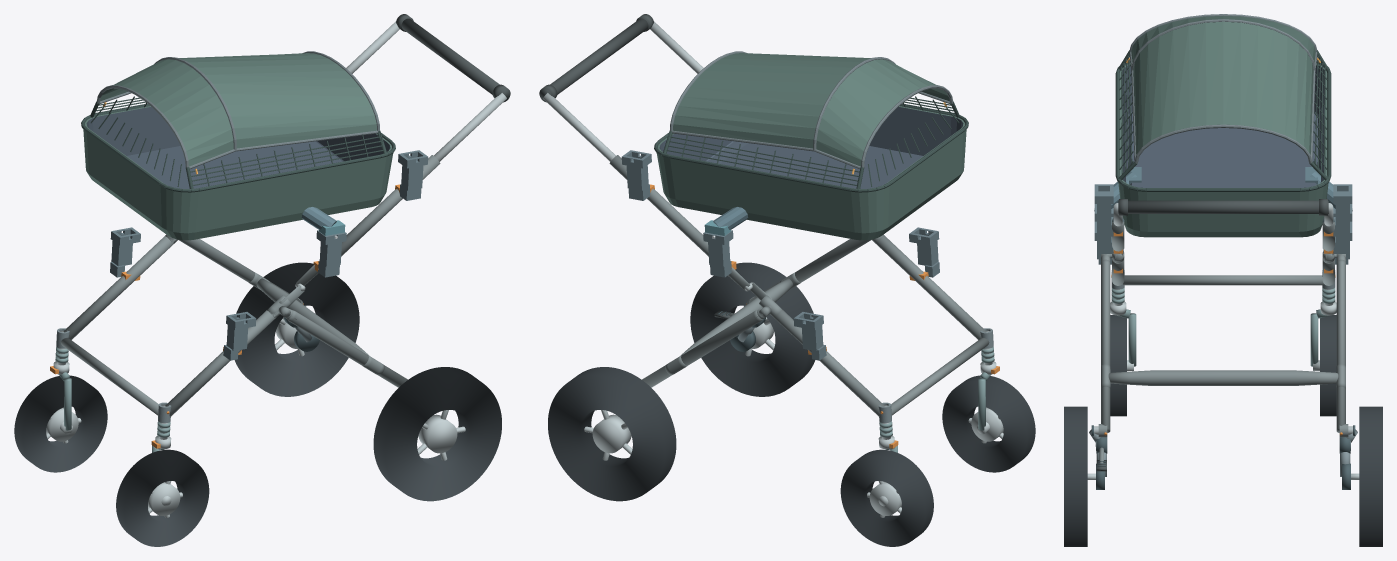
The model's file is S04_w650_state1_wheel_L.glb.
The picture shows the model from 3 angles, left to right: view 1: azimuth 30°, elevation 25°; view 2: azimuth 150°, elevation 25°; view 3: azimuth 270°, elevation 25°; orthographic projection. The views are drawn at different scales.
Visible parts, largest first — view 1: S04_Cabin, RL_tire.008, RR_tire.008, FL_tire.008, FR_tire.008, main_lower_1.009, round_handle.008, V46_rear_leg_-1.009, main_lower_-1.009, front_fixed_round_tube.008, main_upper_-1.009, Universal_Cabin_Receiver_H_-1 (+11 smaller); view 2: S04_Cabin, RR_tire.008, RL_tire.008, FR_tire.008, FL_tire.008, main_lower_-1.009, round_handle.008, V46_rear_leg_1.009, main_lower_1.009, front_fixed_round_tube.008, main_upper_1.009, Universal_Cabin_Receiver_H_1 (+11 smaller); view 3: S04_Cabin, V46_rearbar.009, RL_tire.008, RR_tire.008, round_handle.008, front_fixed_round_tube.008, FL_tire.008, FR_tire.008, V46_rear_leg_1.009, V46_rear_leg_-1.009, Universal_Cabin_Receiver_H_1, Universal_Cabin_Receiver_H_-1 (+3 smaller).
Boxes of the visible parts, x1,y1,x2,y2 form: S04_Cabin: [81, 51, 395, 240]; RL_tire.008: [373, 367, 501, 501]; RR_tire.008: [234, 262, 359, 396]; FL_tire.008: [116, 449, 209, 546]; FR_tire.008: [14, 375, 107, 472]; main_lower_1.009: [63, 236, 176, 339]; round_handle.008: [401, 18, 509, 100]; V46_rear_leg_-1.009: [287, 310, 407, 387]; main_lower_-1.009: [165, 310, 278, 416]; front_fixed_round_tube.008: [60, 337, 158, 415]; main_upper_-1.009: [318, 155, 440, 262]; Universal_Cabin_Receiver_H_-1: [398, 150, 428, 200]; S04_Cabin: [654, 51, 968, 240]; RR_tire.008: [548, 367, 676, 501]; RL_tire.008: [690, 262, 815, 396]; FR_tire.008: [840, 449, 933, 546]; FL_tire.008: [942, 375, 1035, 472]; main_lower_-1.009: [873, 236, 986, 339]; round_handle.008: [540, 18, 648, 100]; V46_rear_leg_1.009: [642, 310, 762, 387]; main_lower_1.009: [771, 310, 884, 416]; front_fixed_round_tube.008: [891, 337, 989, 415]; main_upper_1.009: [609, 155, 731, 262]; Universal_Cabin_Receiver_H_1: [621, 150, 651, 200]; S04_Cabin: [1115, 14, 1331, 237]; V46_rearbar.009: [1108, 370, 1338, 385]; RL_tire.008: [1064, 406, 1087, 546]; RR_tire.008: [1359, 406, 1382, 546]; round_handle.008: [1118, 200, 1328, 213]; front_fixed_round_tube.008: [1123, 275, 1323, 285]; FL_tire.008: [1110, 315, 1126, 416]; FR_tire.008: [1320, 315, 1336, 416]; V46_rear_leg_1.009: [1336, 259, 1345, 432]; V46_rear_leg_-1.009: [1101, 259, 1110, 432]; Universal_Cabin_Receiver_H_1: [1333, 184, 1352, 236]; Universal_Cabin_Receiver_H_-1: [1094, 184, 1113, 236].
Size of the model in its own units: 1.2 by 1.23 by 0.8171.
